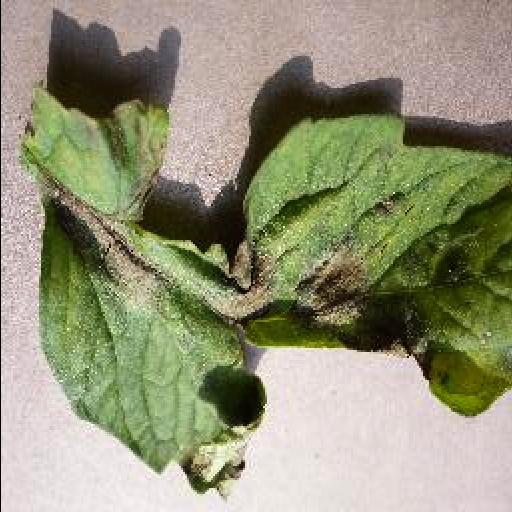disease_tomato: (16, 84, 512, 500)
